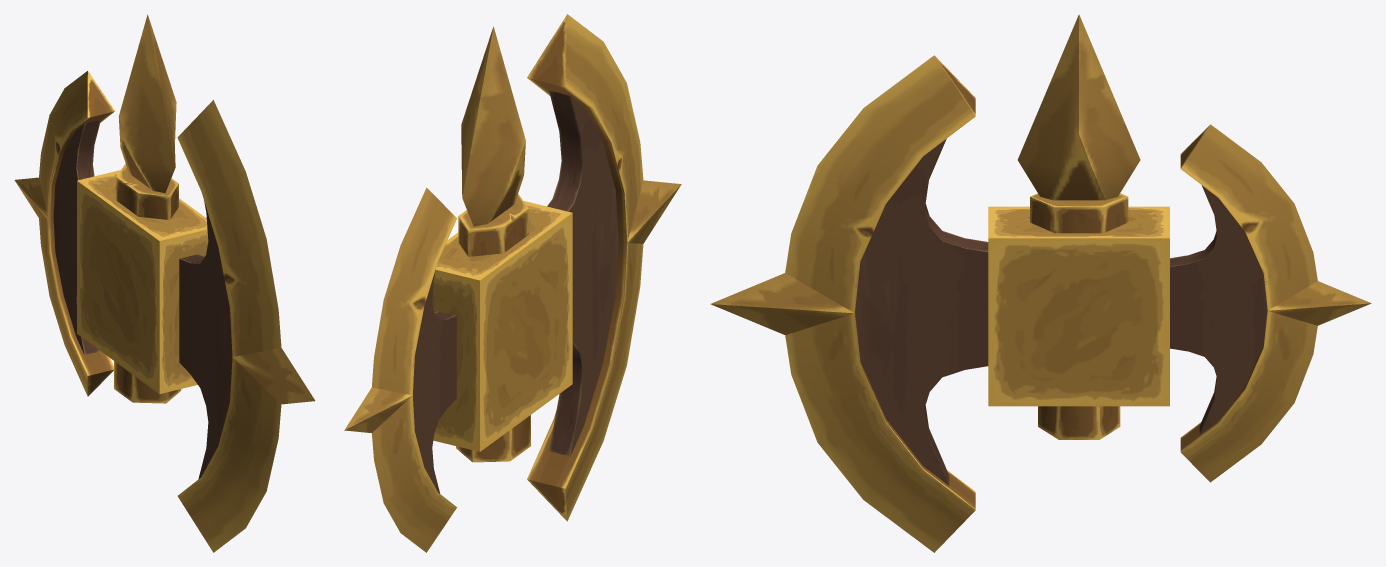
The model's file is SM_WEP_head_axe_battle_17.fbx.
The picture shows the model from 3 angles, left to right: view 1: azimuth 30°, elevation 25°; view 2: azimuth 150°, elevation 25°; view 3: azimuth 270°, elevation 25°; orthographic projection. The views are drawn at different scales.
Parts seen in each view (by area): view 1: SM_WEP_head_axe_battle_17; view 2: SM_WEP_head_axe_battle_17; view 3: SM_WEP_head_axe_battle_17.
Boxes of the visible parts, bbox=[...] form: SM_WEP_head_axe_battle_17: bbox=[14, 14, 315, 552]; SM_WEP_head_axe_battle_17: bbox=[344, 14, 681, 552]; SM_WEP_head_axe_battle_17: bbox=[710, 14, 1371, 552].
Size of the model in its own units: 8.53 by 68.19 by 75.88.
